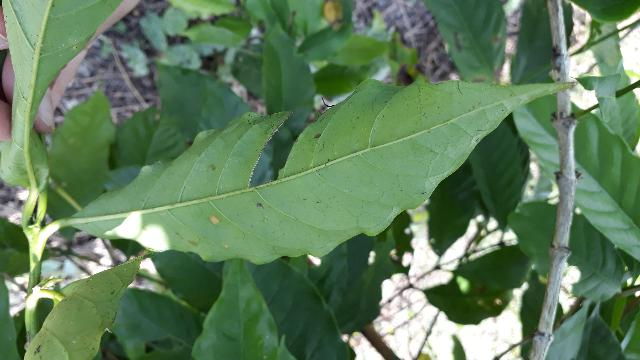rust_level_1: (64, 94, 572, 284)
